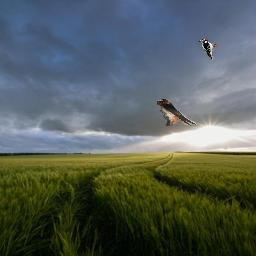Swallow: (157, 99, 197, 126)
Woodpecker: (198, 39, 218, 60)
